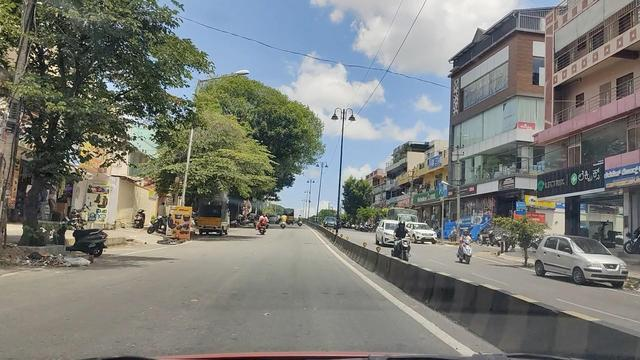HMV: (183, 186, 233, 239)
